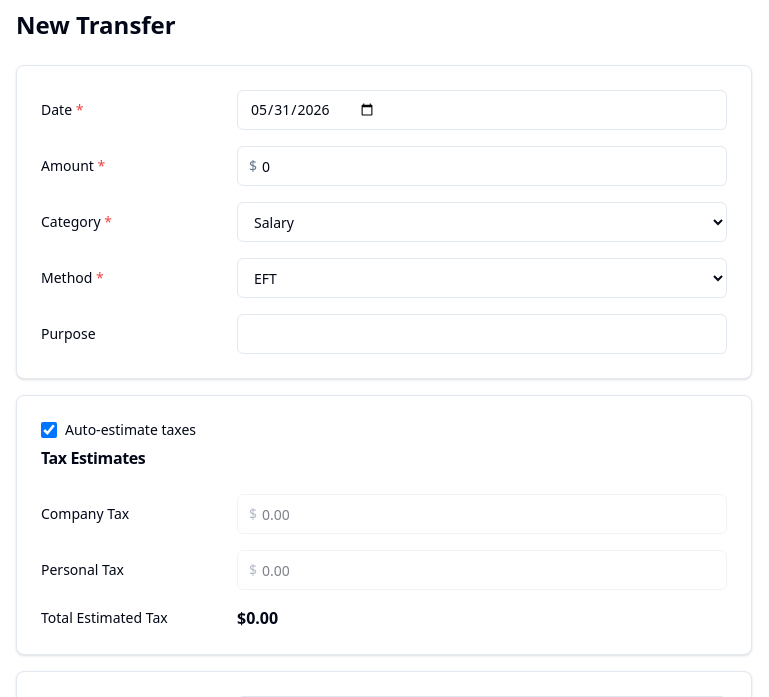
Test: TransferForm (NewTransfer) › auto-estimates company / personal tax from the amount
Replace the text in the number field labelled "Amount *" with "2000": (482, 166) [237,146,727,186]
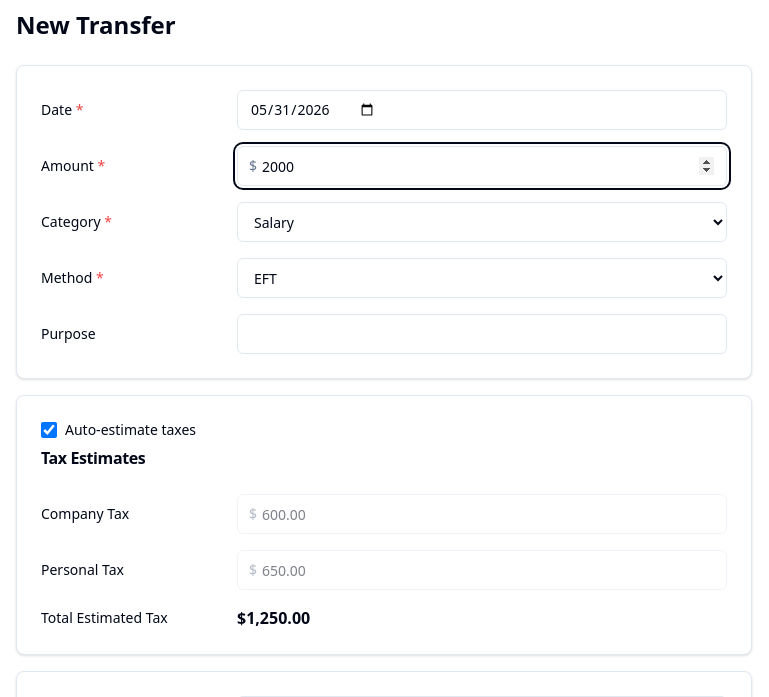
Expected: the number field labelled "Company Tax" is disabled, [237,494,727,534]
Now the number field labelled "Company Tax" holds "600.00", box [237,494,727,534]
Now the number field labelled "Personal Tax" holds "650.00", box [237,550,727,590]
